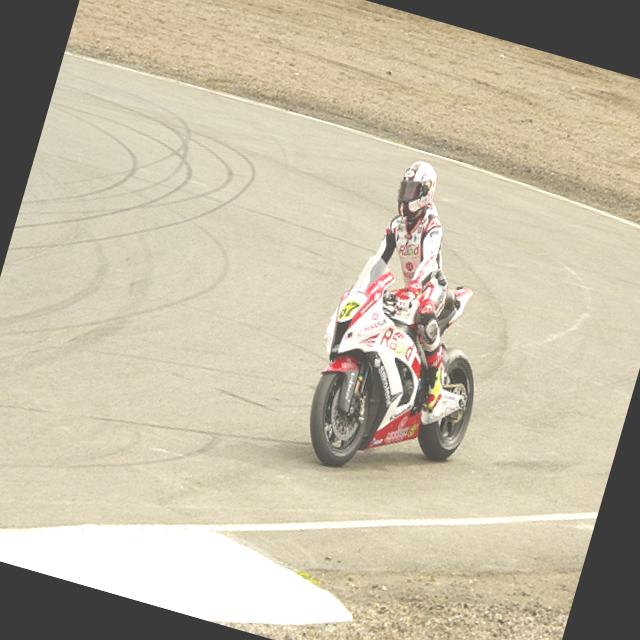Vehicle: (288, 240, 510, 502)
